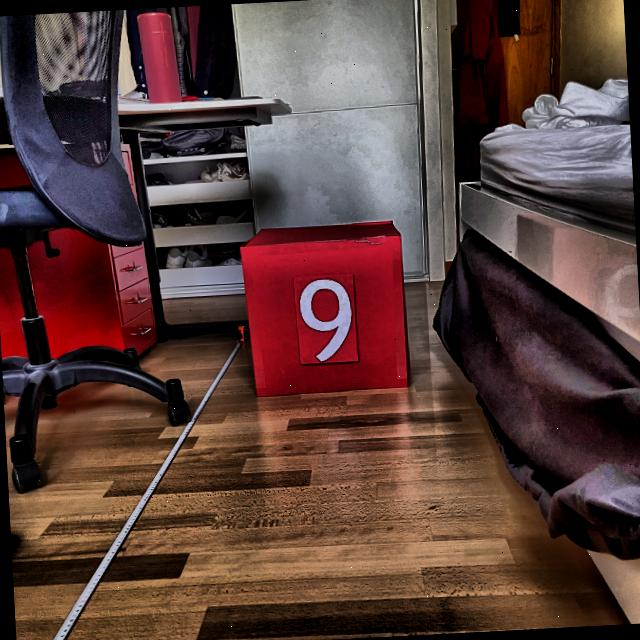nine: (298, 277, 356, 365)
red box: (235, 220, 412, 402)
